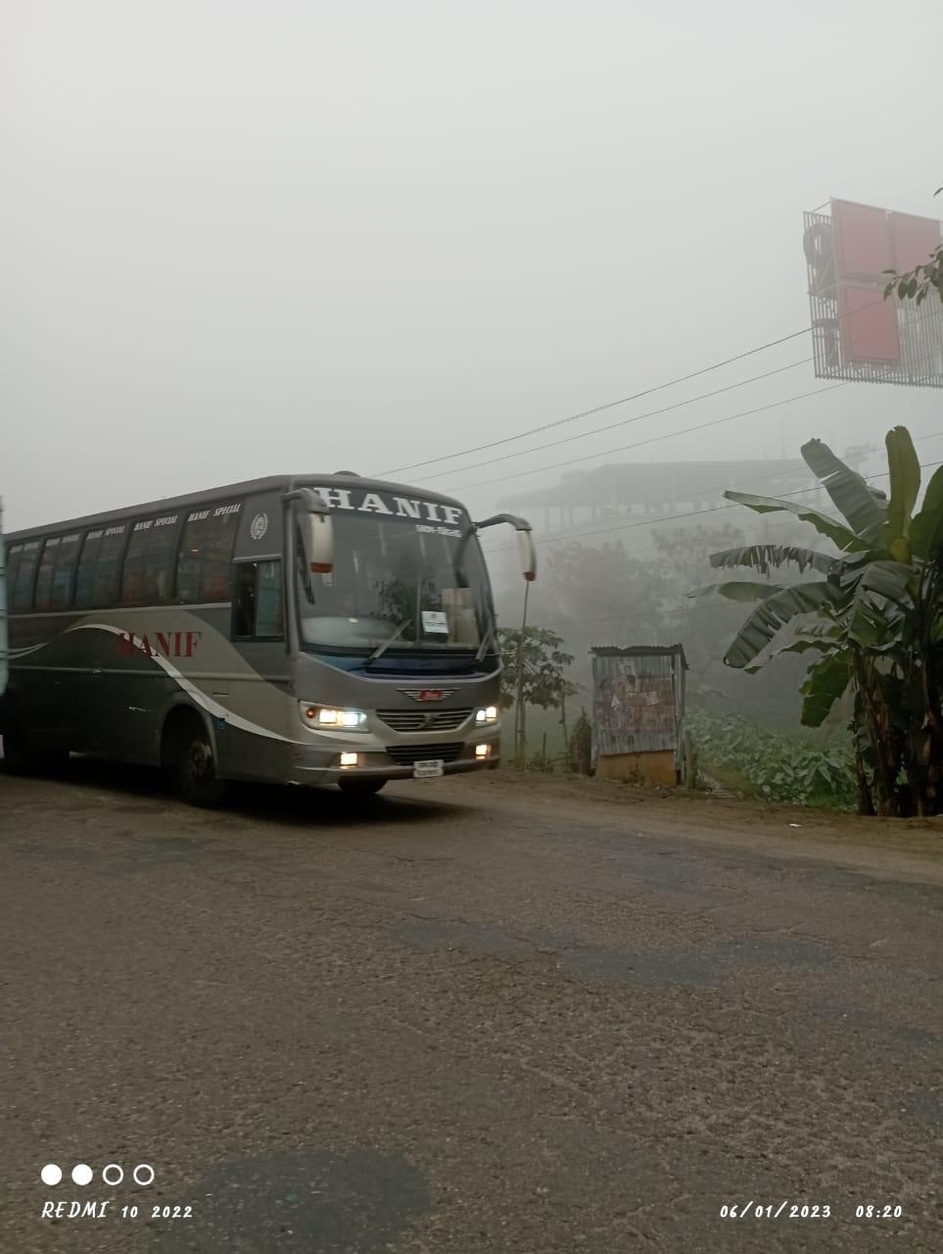Bus: (12, 463, 549, 816)
